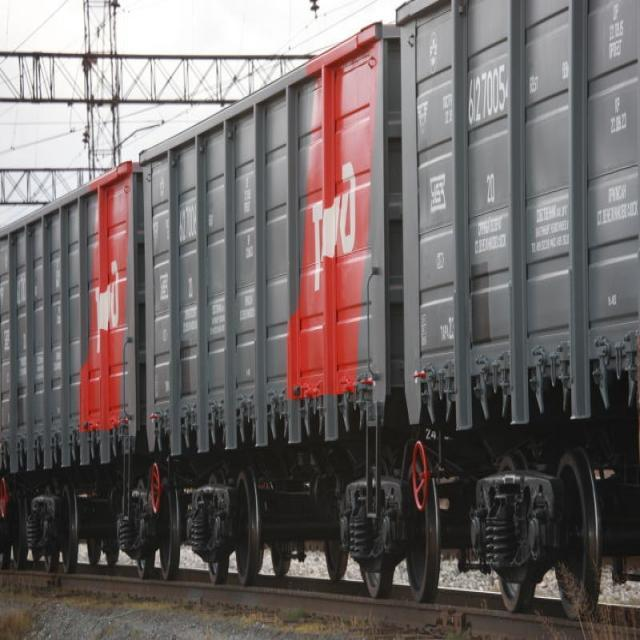wagon: (461, 63, 519, 127), (176, 200, 200, 244)
